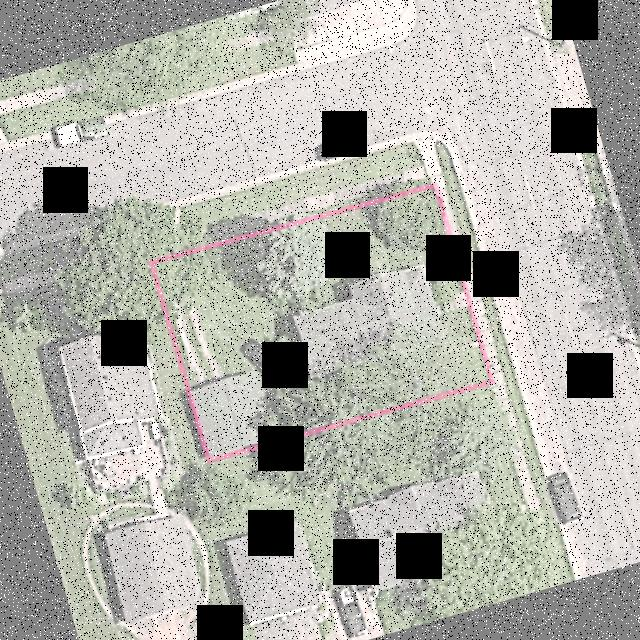Driveway: (160, 255, 223, 380), (435, 290, 467, 312)
Extra Lawn: (434, 140, 516, 380), (182, 142, 422, 223)
Extra Sidewalk: (413, 134, 500, 388), (251, 163, 426, 221)
House: (293, 263, 446, 376)
Other: (192, 369, 277, 454)
